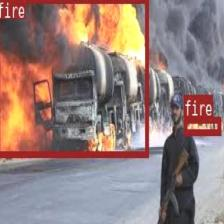fire: (0, 0, 148, 155), (183, 116, 221, 134)
